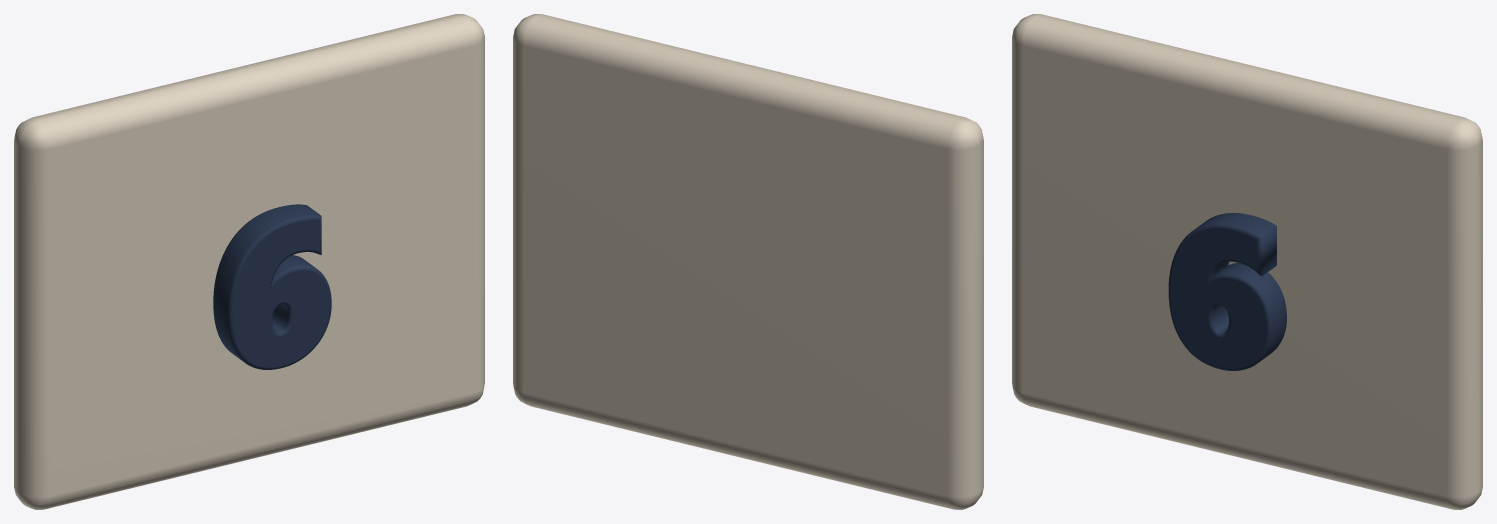
The model's file is BufferTag6.fbx.
3 views of the same model, side by side, from view 1: azimuth 30°, elevation 25°; view 2: azimuth 150°, elevation 25°; view 3: azimuth 330°, elevation 25° (orthographic).
Visible parts, largest first — view 1: BufferTag6 mesh; view 2: BufferTag6 mesh; view 3: BufferTag6 mesh.
Boxes of the visible parts, x1,y1,x2,y2 form: BufferTag6 mesh: (14,14,484,509); BufferTag6 mesh: (513,14,983,509); BufferTag6 mesh: (1012,14,1482,509).
Bounding box in the file's own units: 0.15 × 0.12 × 0.024.
